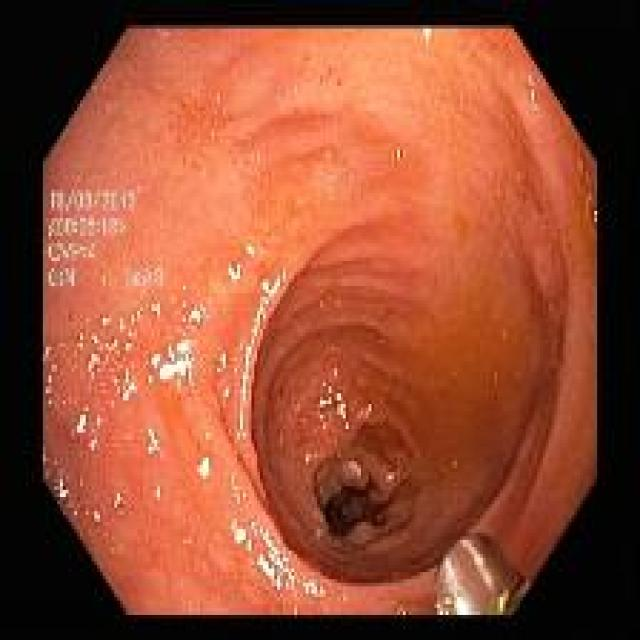ulcerative-colitis: (45, 30, 595, 613)
